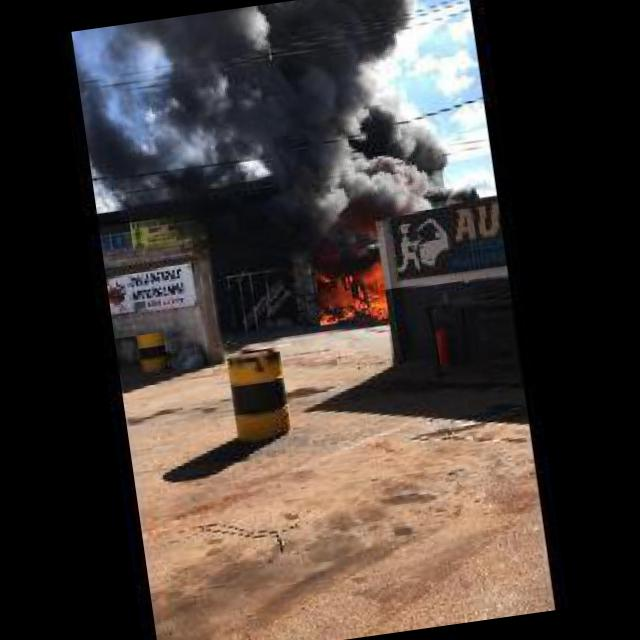fire: (314, 264, 389, 328)
smoke: (78, 0, 460, 267)
